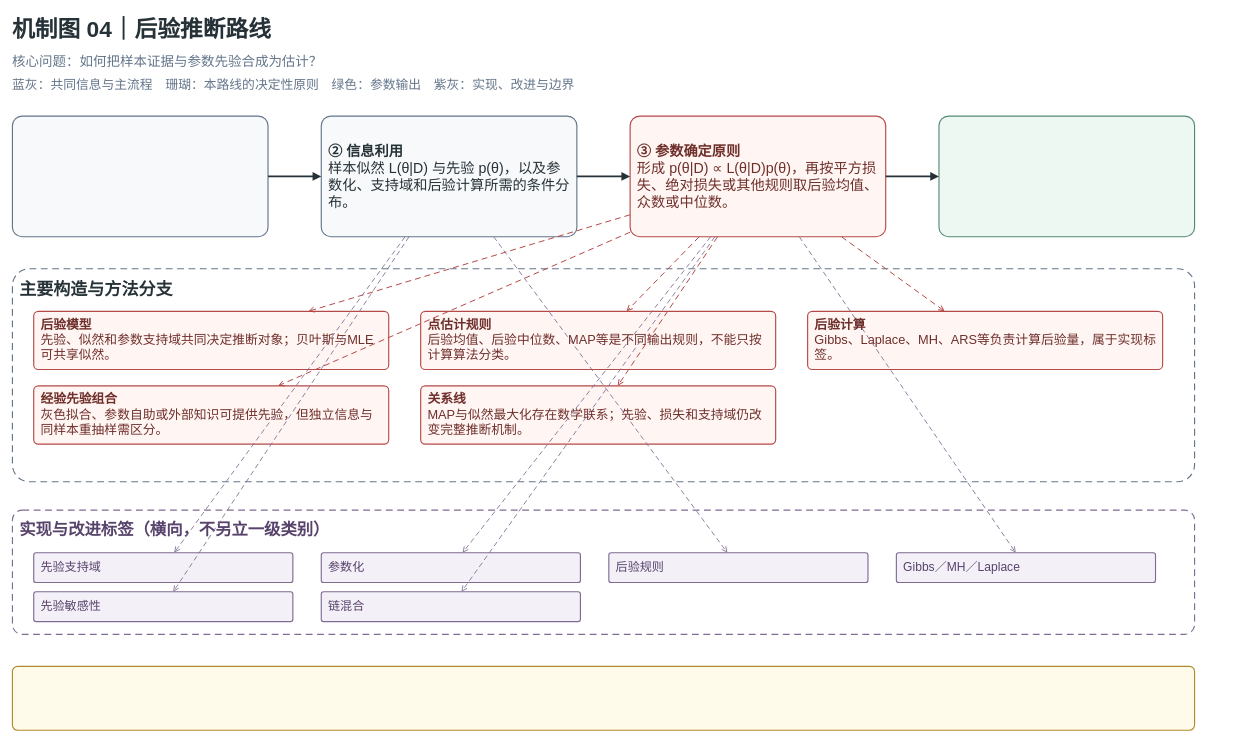
This 1246x743 diagram has some shape labels left out. Here are the shapes that lost their labels. From the top down, the centre of each, then its label:
At (x=140, y=176): "① 样本 D 排序寿命样本 完整样本或指定观测条件".
At (x=1066, y=176): "④ 三参数估计 点估计或后验区间 并伴随先验敏感性、支持域与链混合诊断".
At (x=603, y=697): "解释边界 共享似然不意味着后验推断等同于MLE；计算链运行成功也不自动证明先验和支持域设定合理。".
